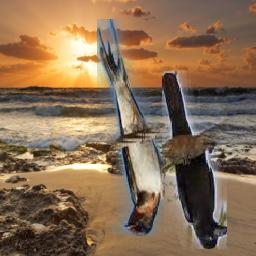Crow: (163, 71, 228, 249)
Swallow: (97, 20, 165, 237)
